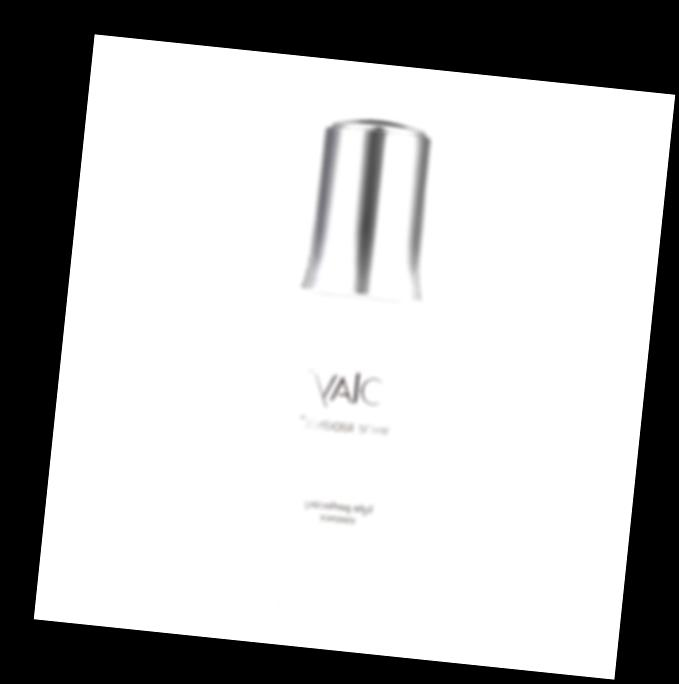cosmetic: (266, 111, 442, 609)
